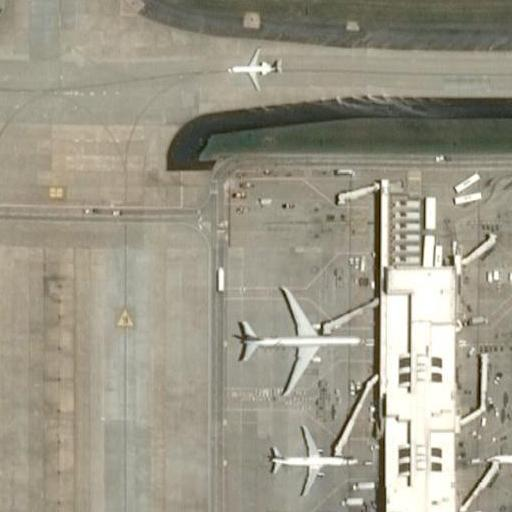Aircraft: (233, 277, 358, 394), (263, 426, 354, 499), (226, 41, 284, 95), (478, 423, 512, 498)
